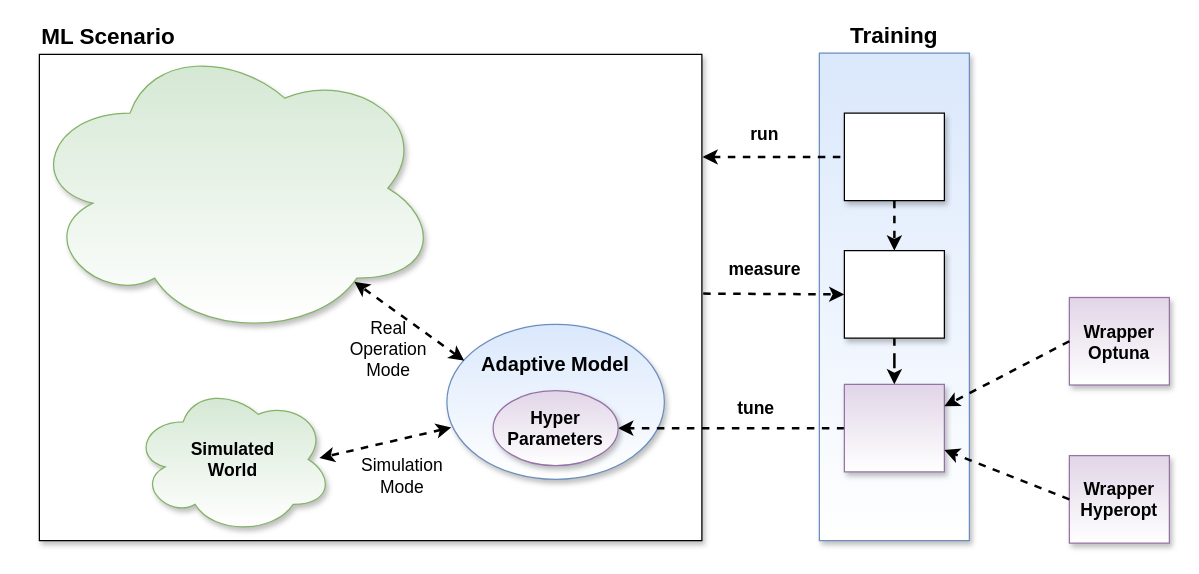
Image size: 1199x574. Some labels were removed from this diagram. Here are the shapes that lost their labels. From the top down, the centre of each, then its label:
At point 895,158: "Execution".
At point 234,189: "Real World".
At point 895,295: "Evaluation".
At point 895,429: "HP Tuner".
